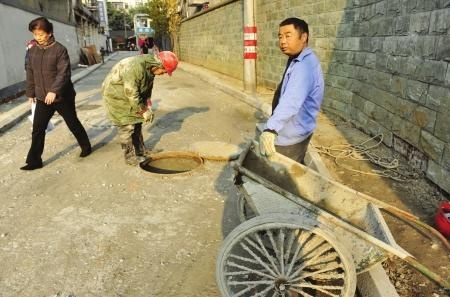none: (276, 16, 311, 57), (26, 14, 55, 45)
red: (148, 48, 180, 77)
